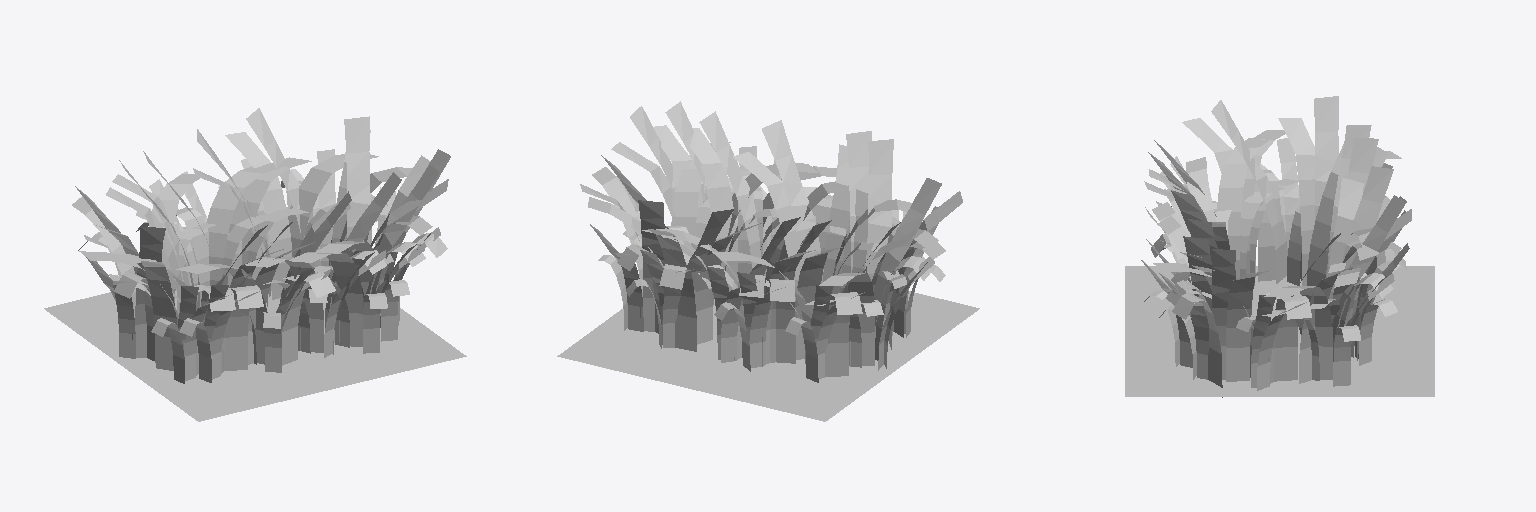
File: grass.obj
The picture shows the model from 3 angles: view 1: azimuth 30°, elevation 25°; view 2: azimuth 150°, elevation 25°; view 3: azimuth 270°, elevation 25°; orthographic projection.
Parts seen in each view (by area): view 1: Plane.001, Foliage01_col.003, Foliage01_col.012, Foliage01_col.010, Foliage01_col.011, Foliage01_col.005, Foliage01_col.013, Foliage01_col.008, Foliage01_col.009, Foliage01_col.004, Foliage01_col.002, Foliage01_col.006 (+2 smaller); view 2: Plane.001, Foliage01_col.003, Foliage01_col.007, Foliage01_col.013, Foliage01_col.008, Foliage01_col.005, Foliage01_col.011, Foliage01_col.002, Foliage01_col.001, Foliage01_col.009, Foliage01_col.010, Foliage01_col.004 (+2 smaller); view 3: Plane.001, Foliage01_col.004, Foliage01_col.003, Foliage01_col.005, Foliage01_col.007, Foliage01_col.006, Foliage01_col.001, Foliage01_col.010, Foliage01_col.008, Foliage01_col.012, Foliage01_col.011, Foliage01_col.002 (+2 smaller).
Part boxes in pixels (left/top/right/bottom): Plane.001: left=44, top=291, right=466, bottom=421; Foliage01_col.003: left=72, top=196, right=176, bottom=370; Foliage01_col.012: left=283, top=165, right=448, bottom=353; Foliage01_col.010: left=109, top=222, right=314, bottom=382; Foliage01_col.011: left=176, top=191, right=351, bottom=372; Foliage01_col.005: left=225, top=108, right=412, bottom=299; Foliage01_col.013: left=245, top=172, right=427, bottom=357; Foliage01_col.008: left=106, top=160, right=281, bottom=314; Foliage01_col.009: left=112, top=151, right=311, bottom=306; Foliage01_col.004: left=314, top=149, right=450, bottom=341; Foliage01_col.002: left=79, top=225, right=283, bottom=383; Foliage01_col.006: left=330, top=116, right=432, bottom=278; Plane.001: left=557, top=291, right=979, bottom=421; Foliage01_col.003: left=805, top=178, right=962, bottom=370; Foliage01_col.007: left=588, top=197, right=763, bottom=351; Foliage01_col.013: left=690, top=111, right=848, bottom=293; Foliage01_col.008: left=659, top=220, right=845, bottom=371; Foliage01_col.005: left=590, top=167, right=686, bottom=333; Foliage01_col.011: left=733, top=120, right=911, bottom=300; Foliage01_col.002: left=840, top=139, right=945, bottom=337; Foliage01_col.001: left=712, top=222, right=918, bottom=382; Foliage01_col.009: left=632, top=217, right=815, bottom=362; Foliage01_col.010: left=823, top=131, right=938, bottom=293; Foliage01_col.004: left=611, top=106, right=818, bottom=270; Plane.001: left=1125, top=266, right=1434, bottom=396; Foliage01_col.004: left=1157, top=215, right=1268, bottom=397; Foliage01_col.003: left=1182, top=100, right=1401, bottom=285; Foliage01_col.005: left=1256, top=195, right=1411, bottom=386; Foliage01_col.007: left=1310, top=166, right=1409, bottom=365; Foliage01_col.006: left=1153, top=233, right=1367, bottom=390; Foliage01_col.001: left=1278, top=96, right=1392, bottom=285; Foliage01_col.010: left=1144, top=138, right=1284, bottom=278; Foliage01_col.008: left=1307, top=125, right=1406, bottom=286; Foliage01_col.012: left=1141, top=202, right=1214, bottom=367; Foliage01_col.011: left=1145, top=157, right=1236, bottom=262; Foliage01_col.002: left=1149, top=130, right=1297, bottom=285.
Bounding box in the file's own units: 8.11 × 3.87 × 6.32.